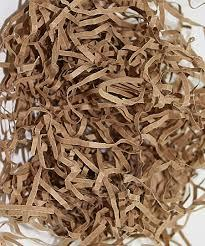Paper shavings: (2, 2, 205, 241)
